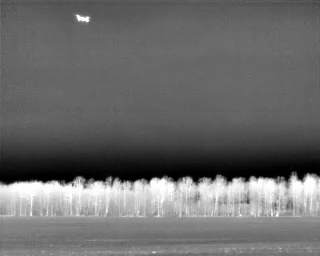DRONE: (72, 10, 94, 28)
